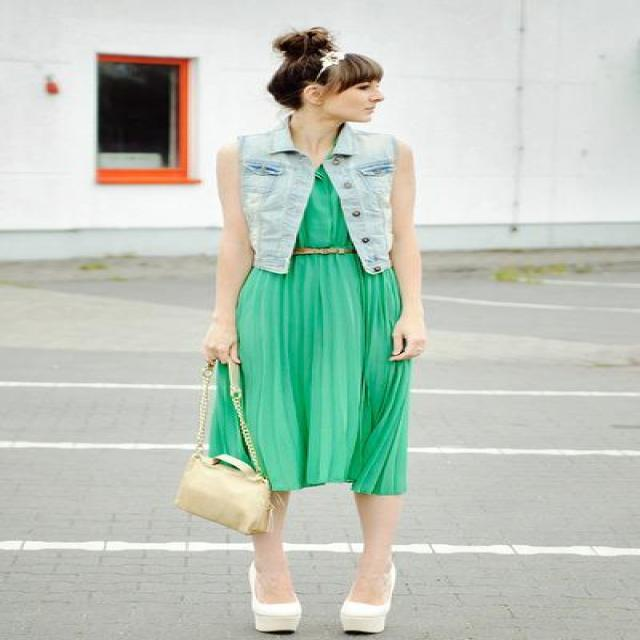bag: (170, 362, 267, 524)
dress: (211, 172, 410, 494)
shirt: (250, 132, 392, 273)
shoe: (253, 589, 389, 631)
